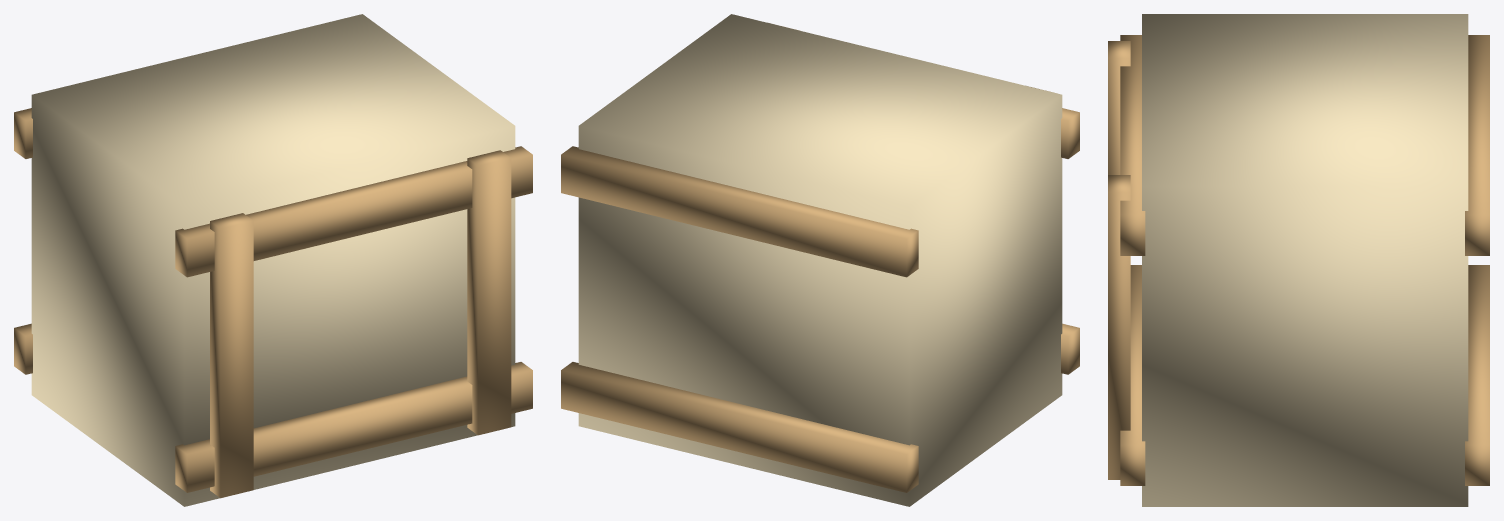
Rendered from fleet-crate.glb.
3 renders of one model, left to right at view 1: azimuth 30°, elevation 25°; view 2: azimuth 150°, elevation 25°; view 3: azimuth 270°, elevation 25°, orthographic. The views are drawn at different scales.
Visible parts, largest first — view 1: Crate_Core, Crate_Rail.002, Crate_Rail, Crate_Brace.001, Crate_Brace, Crate_Rail.001, Crate_Rail.003; view 2: Crate_Core, Crate_Rail.001, Crate_Rail.003, Crate_Rail, Crate_Rail.002; view 3: Crate_Core, Crate_Brace.001, Crate_Rail.001, Crate_Rail.003, Crate_Rail.002, Crate_Rail, Crate_Brace.
Boxes of the visible parts, <box> form: Crate_Core: <box>31,14,515,506</box>; Crate_Rail.002: <box>175,146,532,277</box>; Crate_Rail: <box>175,362,532,492</box>; Crate_Brace.001: <box>467,150,511,435</box>; Crate_Brace: <box>210,213,253,498</box>; Crate_Rail.001: <box>14,323,32,374</box>; Crate_Rail.003: <box>14,108,32,158</box>; Crate_Core: <box>578,14,1062,506</box>; Crate_Rail.001: <box>561,362,918,492</box>; Crate_Rail.003: <box>561,146,918,277</box>; Crate_Rail: <box>1061,323,1079,374</box>; Crate_Rail.002: <box>1061,108,1079,158</box>; Crate_Core: <box>1142,14,1468,506</box>; Crate_Brace.001: <box>1108,175,1130,479</box>; Crate_Rail.001: <box>1465,265,1489,485</box>; Crate_Rail.003: <box>1465,35,1489,255</box>; Crate_Rail.002: <box>1120,35,1145,255</box>; Crate_Rail: <box>1120,265,1145,485</box>; Crate_Brace: <box>1108,41,1130,174</box>.
Bounding box in the file's own units: 0.94 × 0.78 × 0.8425.
